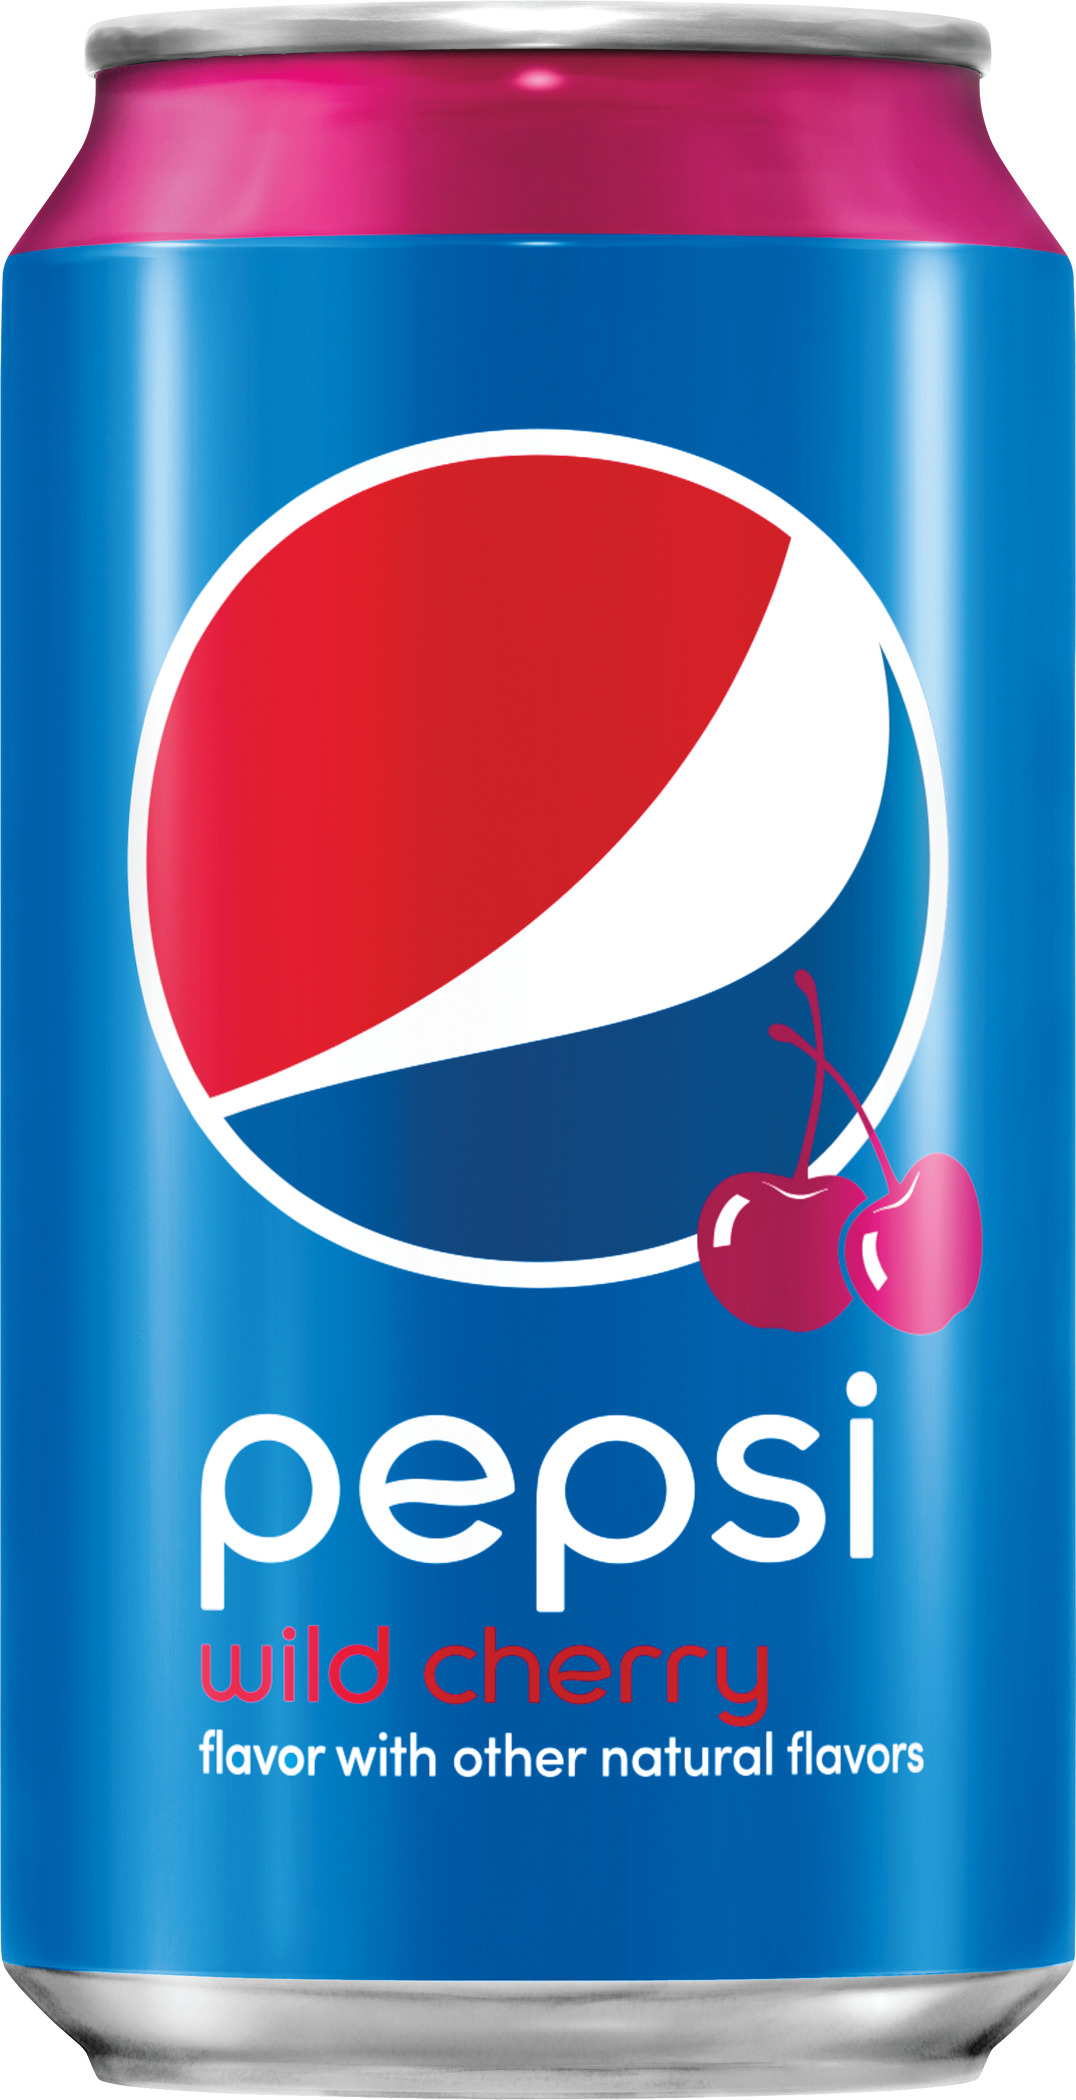pepsi: (3, 3, 1042, 2086)
